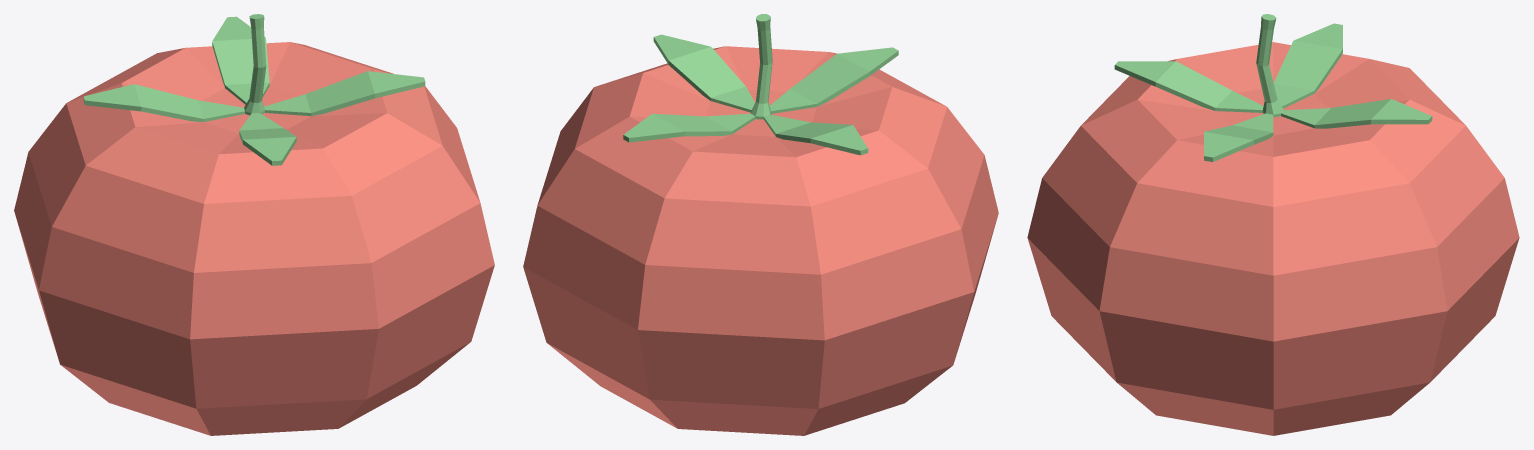
File: Tomato.fbx
3 renders of one model, left to right at view 1: azimuth 30°, elevation 25°; view 2: azimuth 150°, elevation 25°; view 3: azimuth 270°, elevation 25°, orthographic.
Visible parts, largest first — view 1: Tomato_Circle.024; view 2: Tomato_Circle.024; view 3: Tomato_Circle.024.
Part boxes in pixels (<box>): Tomato_Circle.024: <box>14,14,494,435</box>; Tomato_Circle.024: <box>523,14,998,435</box>; Tomato_Circle.024: <box>1027,14,1519,435</box>.
Bounding box in the file's own units: 1047 × 832 × 1047.
